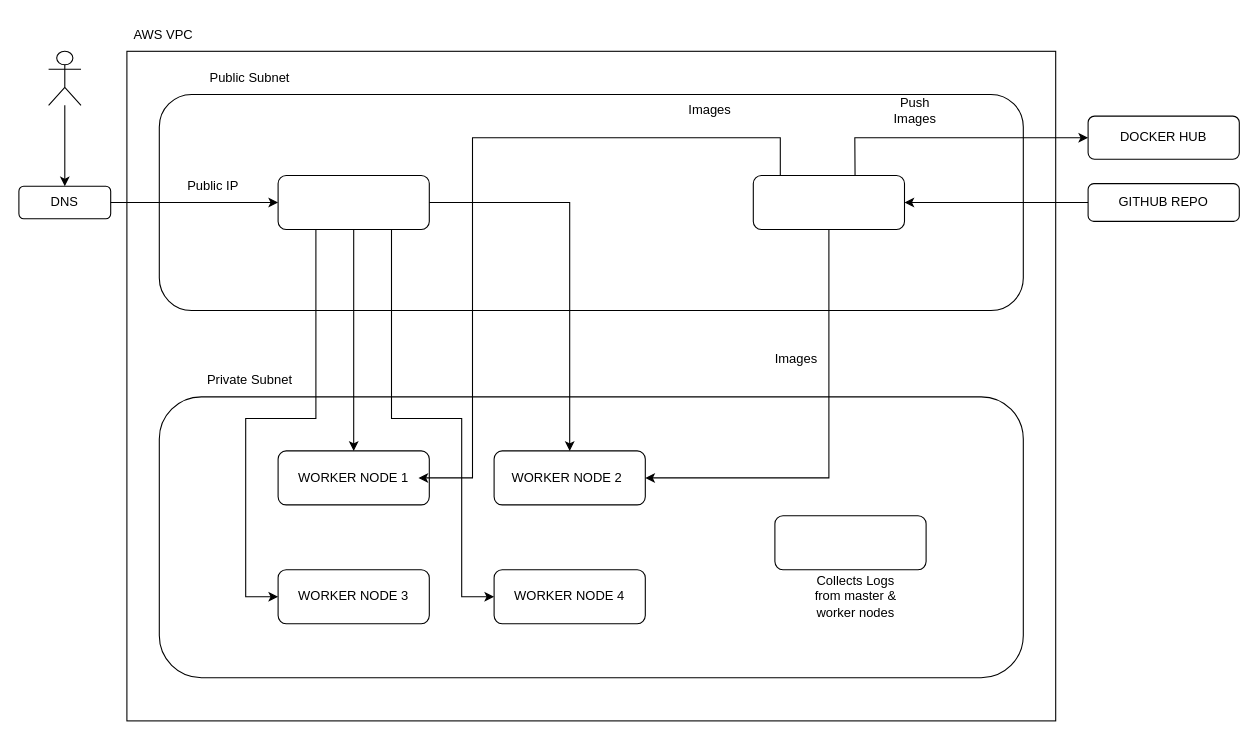
Image size: 1258x740. Some labels were removed from this diagram. Here are the shapes that lost their labels. From the top down, the centre of each, then its label:
the point at 64,77: Users
the point at 353,202: MASTER NODE
the point at 828,202: JENKINS
the point at 850,542: ELK SERVER
